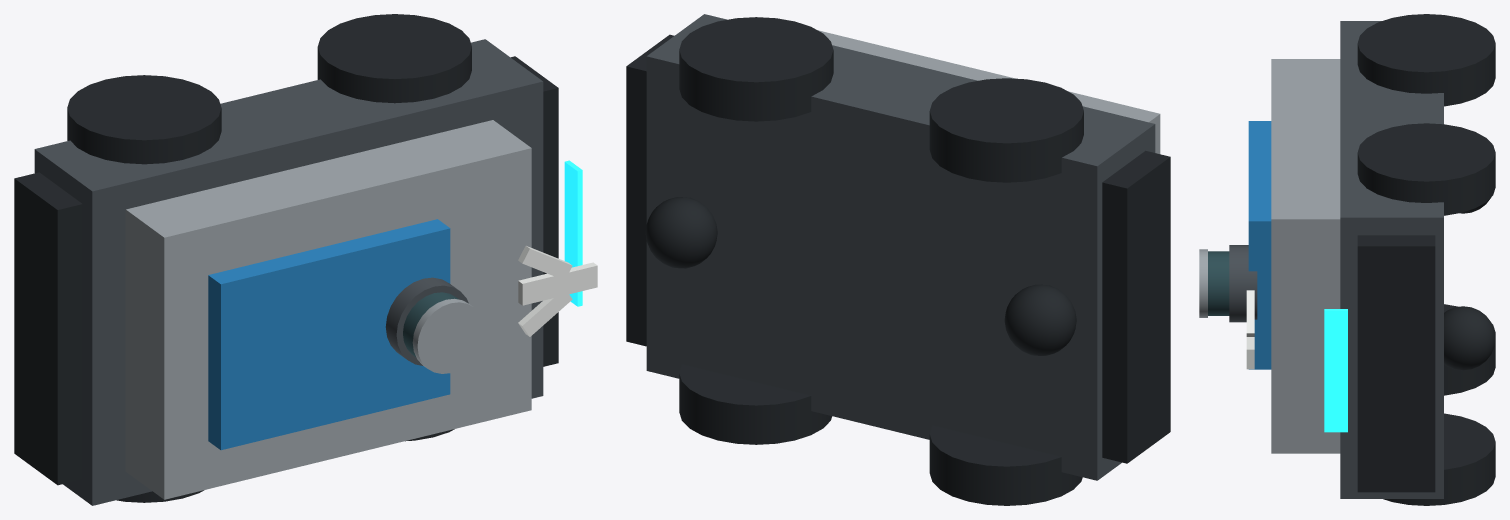
File: amr.glb
3 views of the same model, side by side, from view 1: azimuth 30°, elevation 25°; view 2: azimuth 150°, elevation 25°; view 3: azimuth 270°, elevation 25° (orthographic). The views are drawn at different scales.
Parts seen in each view (by area): view 1: upper-shell, lower-chassis, top-panel, rear-bumper, wheel-rear-left, wheel-front-left, lidar-cap, front-bumper, lidar-base, front-light, forward-marker, forward-chevron-right (+2 smaller); view 2: lower-chassis, rear-bumper, wheel-front-left, wheel-rear-left, wheel-rear-right, wheel-front-right, front-bumper, front-caster, rear-caster, upper-shell; view 3: upper-shell, front-bumper, lower-chassis, wheel-rear-left, wheel-front-left, top-panel, wheel-front-right, front-light, front-caster, lidar-base, lidar-glass, wheel-rear-right (+2 smaller).
Part boxes in pixels (bbox=[...]): upper-shell: bbox=[125, 120, 531, 499]; lower-chassis: bbox=[34, 39, 543, 505]; top-panel: bbox=[208, 219, 450, 450]; rear-bumper: bbox=[14, 172, 82, 485]; wheel-rear-left: bbox=[67, 75, 221, 164]; wheel-front-left: bbox=[317, 14, 471, 103]; lidar-cap: bbox=[412, 298, 484, 373]; front-bumper: bbox=[511, 56, 558, 366]; lidar-base: bbox=[385, 277, 468, 365]; front-light: bbox=[564, 160, 582, 306]; forward-marker: bbox=[518, 262, 597, 305]; forward-chevron-right: bbox=[518, 288, 572, 336]; lower-chassis: bbox=[646, 14, 1155, 480]; rear-bumper: bbox=[1102, 150, 1170, 463]; wheel-front-left: bbox=[679, 17, 833, 121]; wheel-rear-left: bbox=[929, 78, 1083, 182]; wheel-rear-right: bbox=[929, 425, 1082, 505]; wheel-front-right: bbox=[679, 364, 832, 444]; front-bumper: bbox=[626, 34, 674, 346]; front-caster: bbox=[645, 197, 717, 268]; rear-caster: bbox=[1004, 284, 1076, 355]; upper-shell: bbox=[818, 30, 1160, 153]; upper-shell: bbox=[1271, 59, 1340, 453]; front-bumper: bbox=[1357, 235, 1435, 492]; lower-chassis: bbox=[1340, 21, 1443, 498]; wheel-rear-left: bbox=[1357, 14, 1495, 106]; wheel-front-left: bbox=[1357, 123, 1495, 215]; top-panel: bbox=[1248, 121, 1271, 369]; wheel-front-right: bbox=[1383, 413, 1495, 505]; front-light: bbox=[1324, 309, 1347, 432]; front-caster: bbox=[1444, 306, 1495, 370]; lidar-base: bbox=[1229, 245, 1257, 322]; lidar-glass: bbox=[1208, 251, 1229, 315]; wheel-rear-right: bbox=[1444, 304, 1495, 395].
Size of the model in its own units: 1.21 by 0.83 by 0.687.
